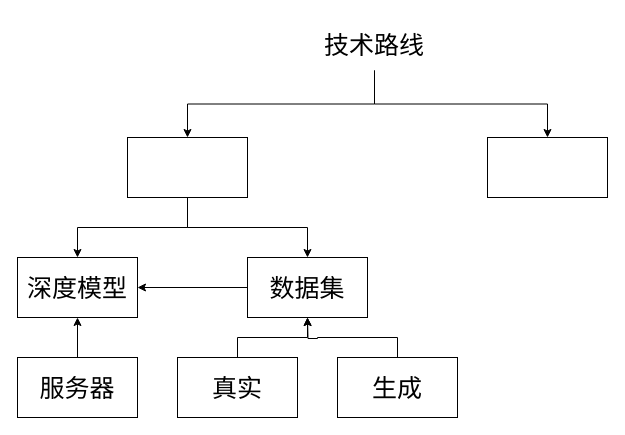
The diagram is 625 pixels wide and 435 high, and some of its shapes have lost their labels. Here are the shapes that lost their labels. From the top down, the centre of each, then its label:
At (187,167): "AI".
At (547,167): "UE".
